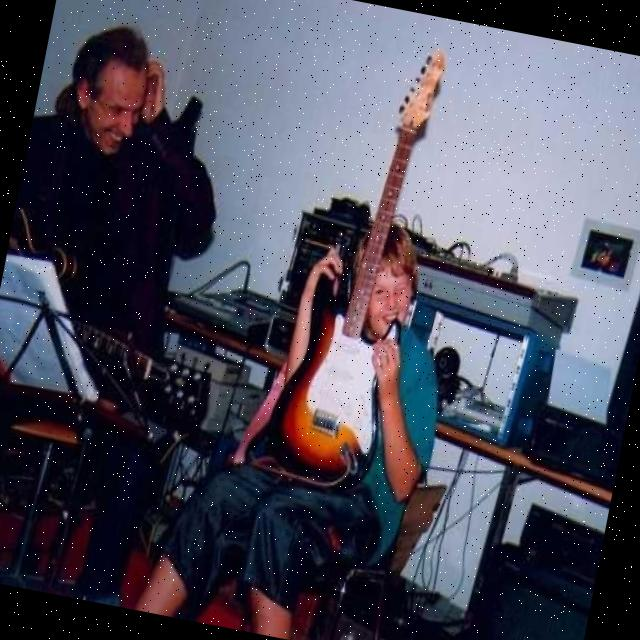guitar: (259, 29, 464, 500), (0, 204, 242, 427)
